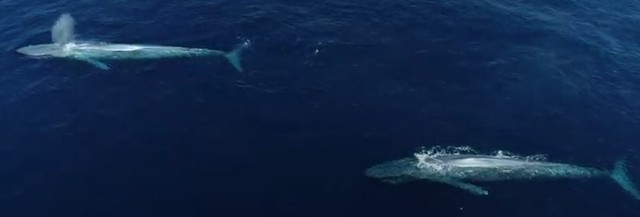whale: (361, 143, 640, 199), (13, 29, 254, 75)
